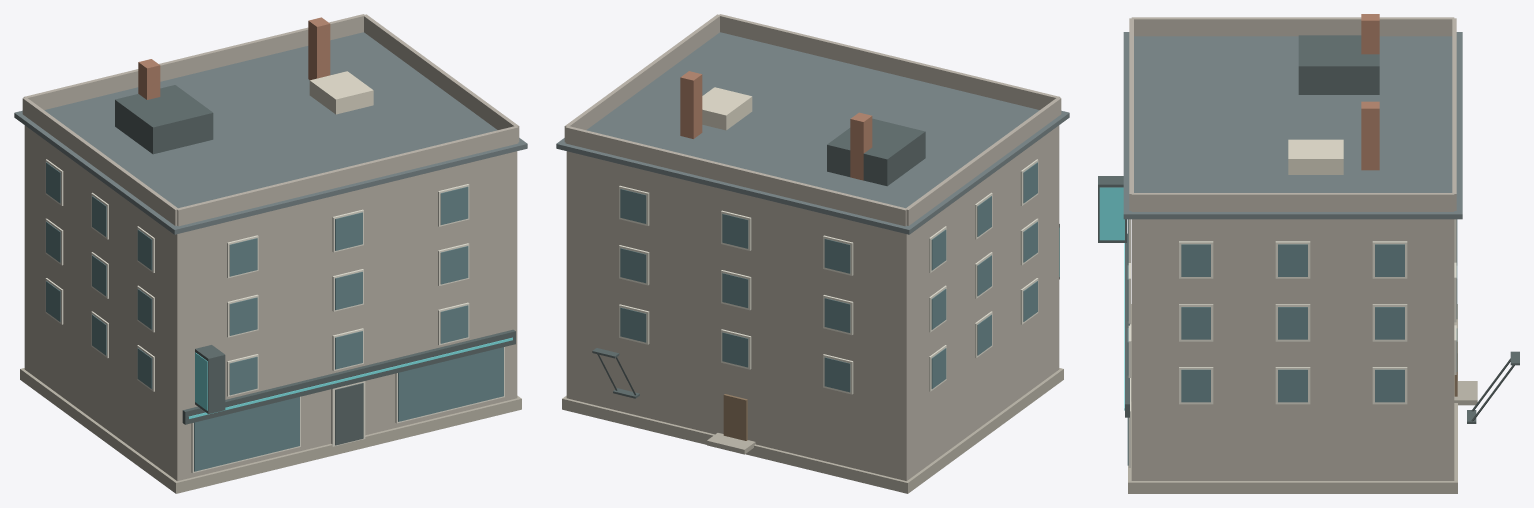
3 renders of one model, left to right at view 1: azimuth 30°, elevation 25°; view 2: azimuth 150°, elevation 25°; view 3: azimuth 270°, elevation 25°, orthographic. The views are drawn at different scales.
Bounding box in the file's own units: 18.7 × 16.44 × 18.3.
